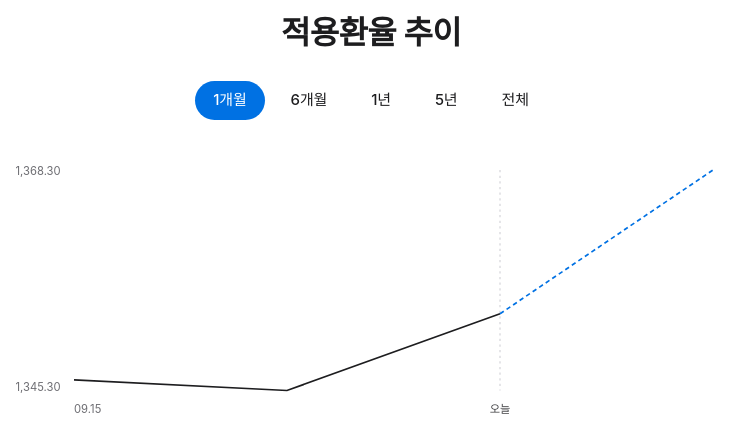
Test: 오늘 표시는 1개월 구간에만 둔다
The width and height of the screenshot is (730, 432).
Check: the text "오늘" is shown, box [490,402,510,416]
Click the button "전체": (515, 100) [484,81,547,120]
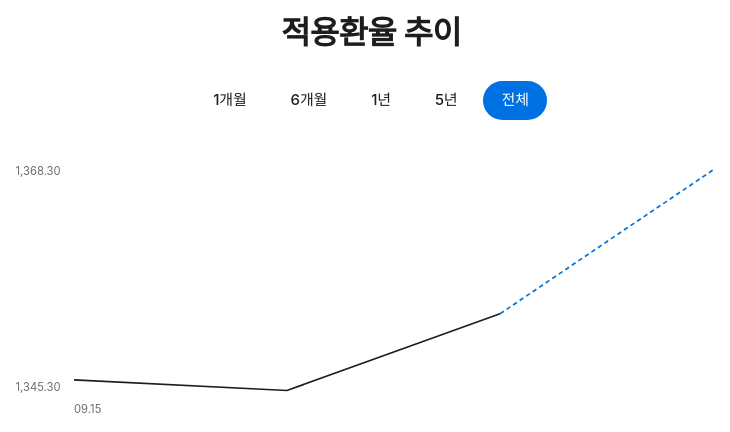
Check: the picture "오늘" is gone
